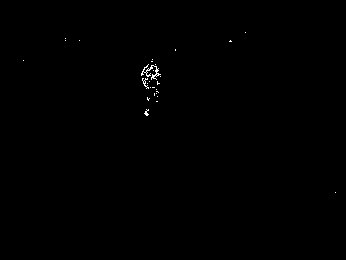person: (141, 60, 162, 114)
